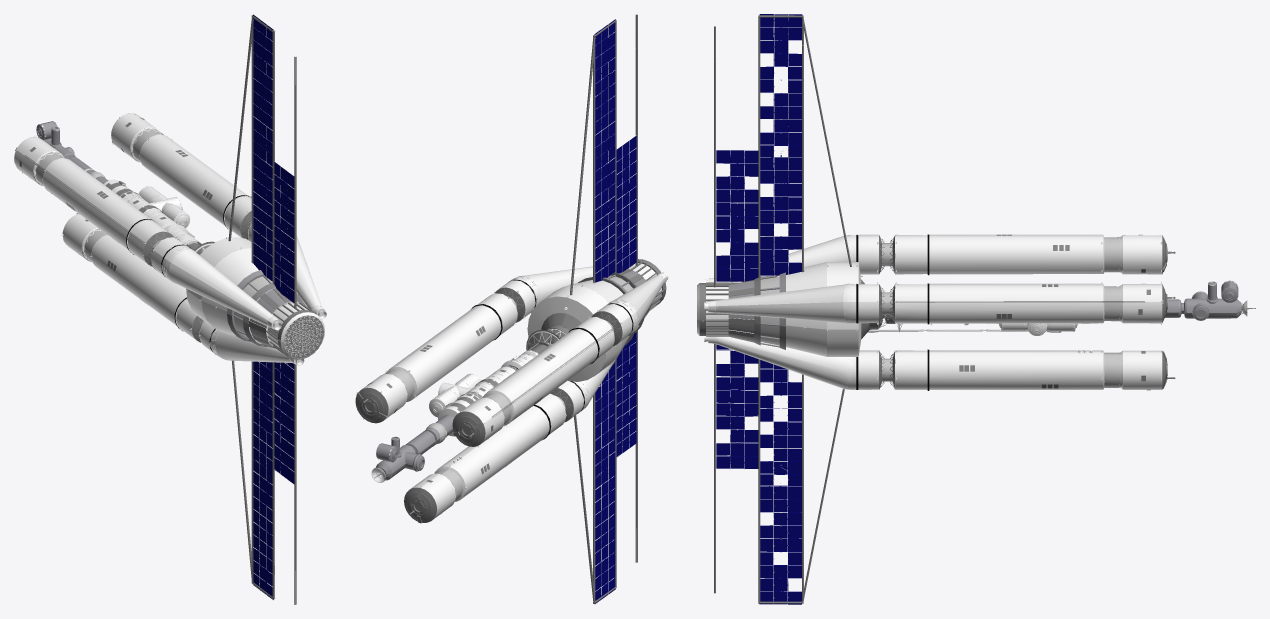
File: naveHailMary.obj
3 views of the same model, side by side, from view 1: azimuth 30°, elevation 25°; view 2: azimuth 150°, elevation 25°; view 3: azimuth 270°, elevation 25° (orthographic). The views are drawn at different scales.
Parts seen in each view (by area): view 1: Main_Ship.003_Material.004, Main_Ship.003_Material, Main_Ship.003_Material.041, Main_Ship.003_Material.019, Main_Ship.003_Material.003, Main_Ship.003_Material.001, Main_Ship.003_Material.042; view 2: Main_Ship.003_Material.004, Main_Ship.003_Material, Main_Ship.003_Material.041, Main_Ship.003_Material.019, Main_Ship.003_Material.001, Main_Ship.003_Material.003, Main_Ship.003_Material.042, Main_Ship.003_Material.043; view 3: Main_Ship.003_Material.004, Main_Ship.003_Material.041, Main_Ship.003_Material, Main_Ship.003_Material.019, Main_Ship.003_Material.003, Main_Ship.003_Material.042, Main_Ship.003_Material.001.
Part boxes in pixels (x1,y1,x2,y2): Main_Ship.003_Material.004: (14,14,326,604); Main_Ship.003_Material: (15,15,323,604); Main_Ship.003_Material.041: (253,14,294,494); Main_Ship.003_Material.019: (253,361,273,599); Main_Ship.003_Material.003: (274,362,294,483); Main_Ship.003_Material.001: (36,121,305,347); Main_Ship.003_Material.042: (36,129,281,338); Main_Ship.003_Material.004: (355,14,668,604); Main_Ship.003_Material: (355,14,666,603); Main_Ship.003_Material.041: (594,19,636,467); Main_Ship.003_Material.019: (595,361,615,603); Main_Ship.003_Material.001: (374,269,651,480); Main_Ship.003_Material.003: (616,332,636,456); Main_Ship.003_Material.042: (387,275,633,500); Main_Ship.003_Material.043: (471,279,633,440); Main_Ship.003_Material.004: (697,14,1247,604); Main_Ship.003_Material.041: (716,14,802,598); Main_Ship.003_Material: (699,15,1175,603); Main_Ship.003_Material.019: (759,360,801,604); Main_Ship.003_Material.003: (716,344,758,468); Main_Ship.003_Material.042: (760,237,1121,387); Main_Ship.003_Material.001: (728,272,1255,347).
Size of the model in its own units: 31.34 by 130 by 112.
